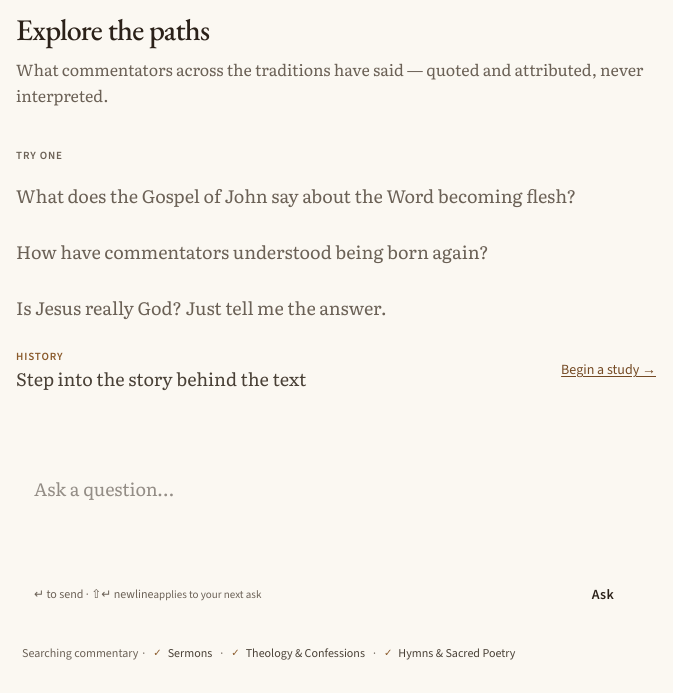
Test: Stop › resolves the turn to an explicit failure with a retry, idles the composer, and posts nothing more
The image size is (673, 693).
Type "What is grace?" into the text box with placeholder "Ask a question…" at (336, 517), box [28,472,644,562]
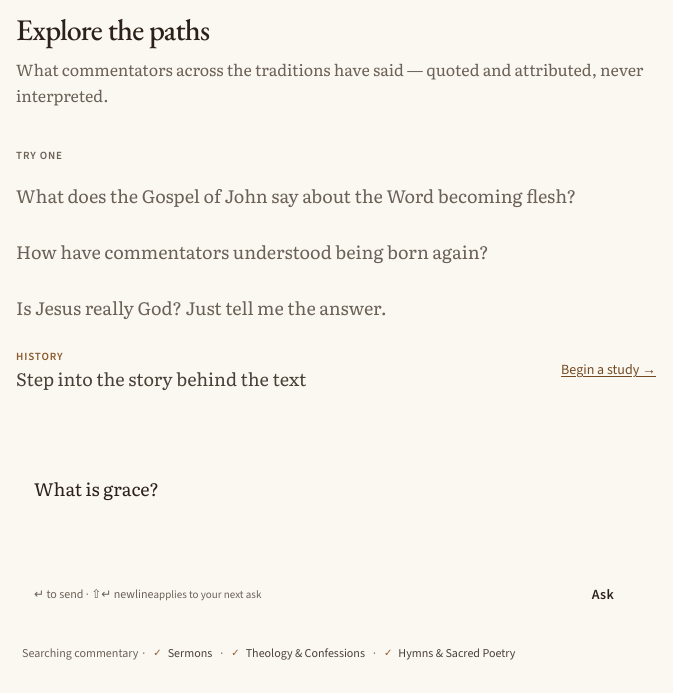
Submit the form with placeholder "Ask a question", box [16,460,656,677]
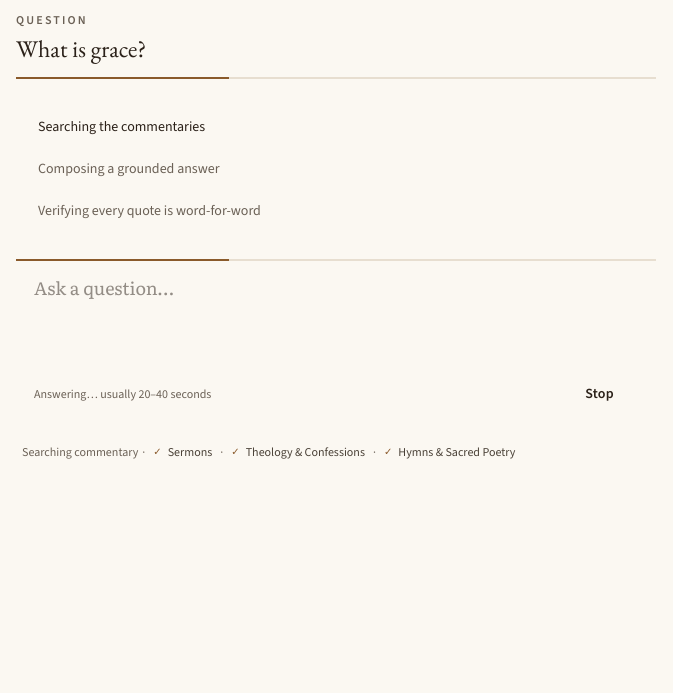
Click the button "Stop" at (600, 394), box [561,372,638,416]
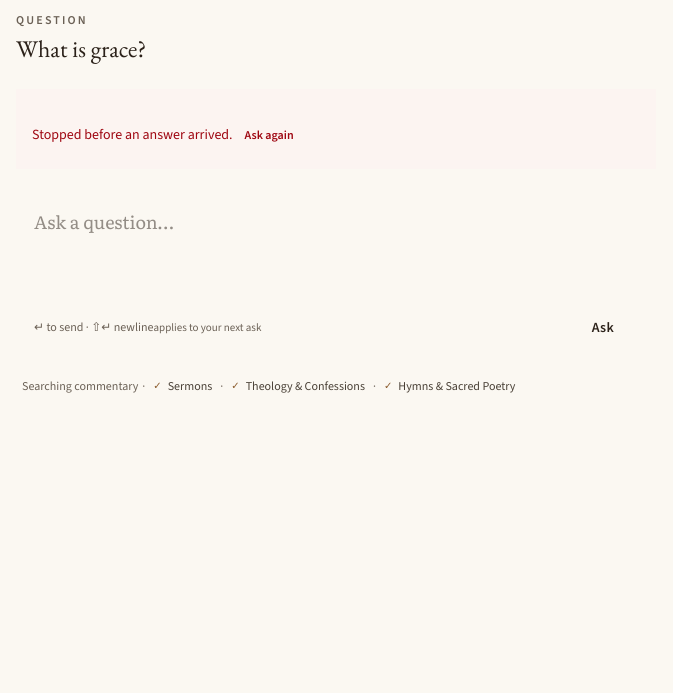
Now the message shows "Stopped before", box [32,125,233,144]
Now the button "Ask again" is shown, box [233,113,306,157]
Now the button "Ask" is shown, box [568,306,638,350]
